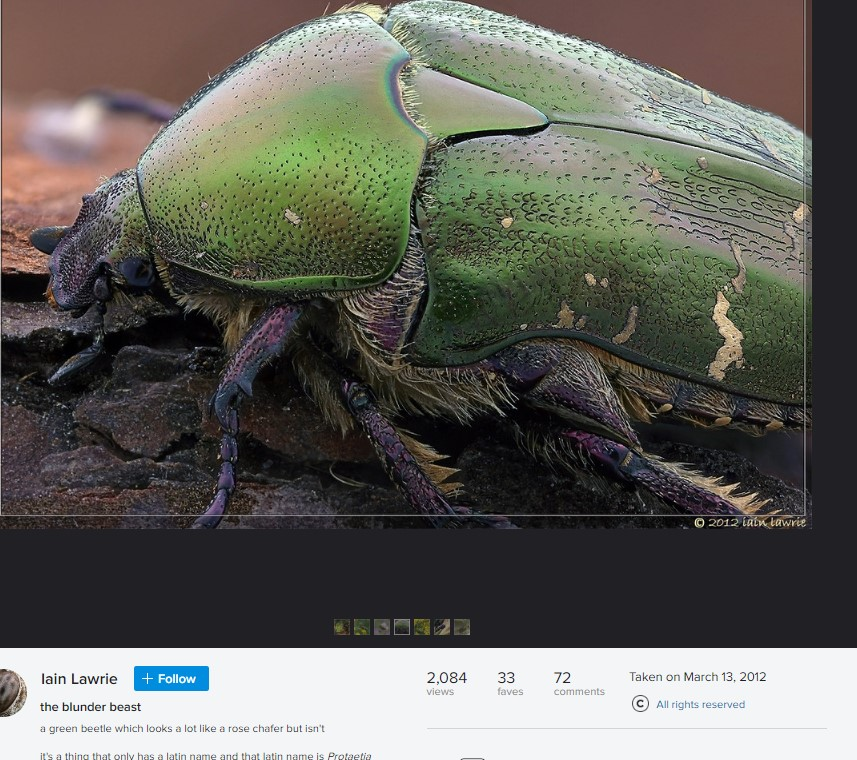Protaetia_metallica: (48, 1, 810, 522)
